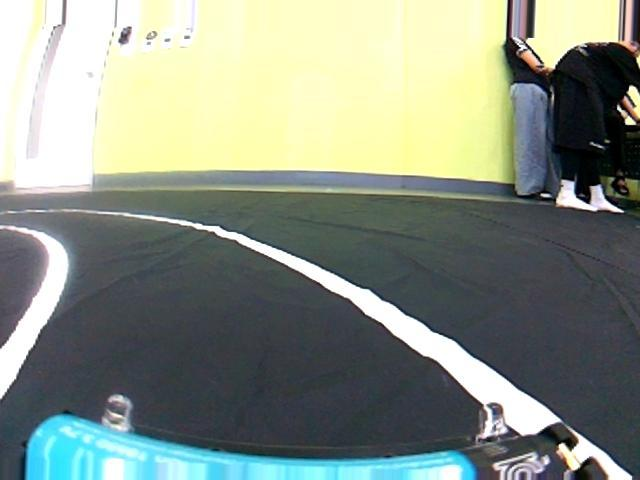left: (9, 143, 496, 476)
